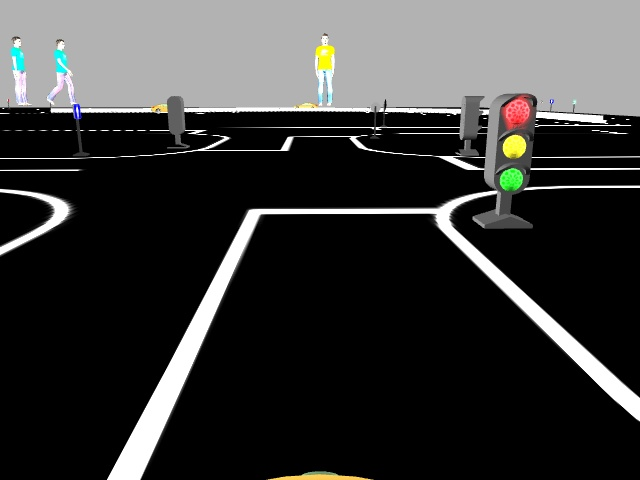TrafficLight: (484, 92, 538, 192)
